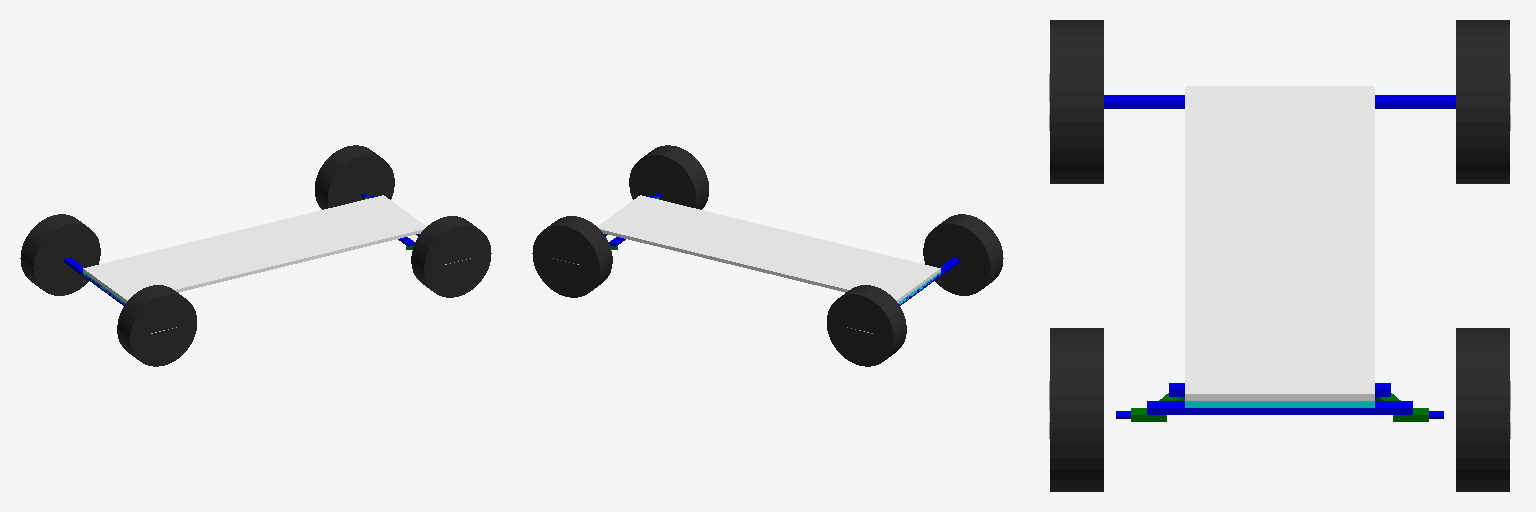
URDF robot description (car):
<!--
  This prius model supports ackerman steering, which is controlled by
  an actuator.
  
  This model is rear-wheel-drive. The rear two wheels are independently controlled.

-->
<robot name="car">
  
  <link name="front_axle">
    <!-- <inertial>
      <origin xyz="0 0 0" rpy="0 0 0" />
      <mass value="5.42793634" />
      <inertia iyy="0.00216238" ixx="0.50037476" izz="0.50167219" />
    </inertial> -->
    <visual>
      <origin xyz="0 0 0.3302" rpy="0 0 0" />
      <geometry>
        <box size="0.061842105 1.051315789 0.030921" />
      </geometry>
      <material name="">
        <color rgba="0 0 1 1" />
      </material>
    </visual>
  </link>
  
  <link name="left_tie_rod_arm">
    <!-- <inertial>
      <mass value="1.58382895" />
      <inertia iyy="0.01392609" iyx="0.00888406" ixy="0.00888406" ixx="0.00760563" izz="0.02127934" />
    </inertial> -->
    <visual>
      <origin xyz="0 0.02228556 0.299279" rpy="0 0 0" />
      <geometry>
        <box size="0.061842105 0.140955396 0.030921" />
      </geometry>
      <material name="">
        <color rgba="0 .5 0 1" />
      </material>
    </visual>
    <visual>
      <origin xyz="-0.108367333 -0.054311782 0.299279" rpy="0 0 0.463647611" />
      <geometry>
        <box size="0.204636598 0.061842105 0.030921" />
      </geometry>
      <material name="">
        <color rgba="0 .5 0 1" />
      </material>
    </visual>     
  </link>
  
  <link name="right_tie_rod_arm">
    <!-- <inertial>
      <mass value="1.58382895" />
      <inertia iyy="0.01392609" iyx="-0.00888406" ixy="-0.00888406" ixx="0.00760563" izz="0.02127934" />
    </inertial> -->
    <visual>
      <origin xyz="0.172468672 -0.108519747 0.299279" rpy="0 0 0" />
      <geometry>
        <box size="0.061842105 0.140955396 0.030921" />
      </geometry>
      <material name="">
        <color rgba="0 .5 0 1" />
      </material>
    </visual>
    <visual>
      <origin xyz="0.063859619 -0.031929809 0.299279" rpy="0 0 -0.463647611" />
      <geometry>
        <box size="0.204636598 0.061842105 0.030921" />
      </geometry>
      <material name="">
        <color rgba="0 .5 0 1" />
      </material>
    </visual>  
  </link>
  
  <link name="tie_rod">
    <!-- <inertial>
      <mass value="4.53748175" />
      <inertia iyy="0.00180764" ixx="0.29241361" izz="0.29349820" />
    </inertial> -->
    <visual>
      <origin xyz="0 -0.408502555 0.3302" rpy="0 0 0" />
      <geometry>
        <box size="0.061842105 0.878847118 0.030921" />
      </geometry>
      <material name="">
        <color rgba="0 0 1 1" />
      </material>
    </visual>
  </link>
  
  <!-- Hubs -->
  <link name="left_hub">
    <!-- <inertial>
      <mass value="0.12538524" />
      <inertia iyy="0.00001499" ixx=" 0.00004745" izz=" 0.00004745" />
    </inertial> -->
    <visual>
      <origin xyz="0 0.61842105 0.299279" rpy="1.5708 0 0" />
      <geometry>
        <cylinder length="0.061842105" radius="0.015460526"/>
      </geometry>
      <material name="">
        <color rgba="0 0 1 1" />
      </material>
    </visual>
  </link>
  
  <link name="right_hub">
    <!-- <inertial>
      <mass value="0.12538524" />
      <inertia iyy="0.00001499" ixx=" 0.00004745" izz=" 0.00004745" />
    </inertial> -->
    <visual>
      <origin xyz="0 -0.61842105 0.299279" rpy="1.5708 0 0" />
      <geometry>
        <cylinder length="0.061842105" radius="0.015460526"/>
      </geometry>
      <material name="">
        <color rgba="0 0 1 1" />
      </material>
    </visual>
  </link>
  
  <!-- Wheels -->
  <link name="left_wheel">
    <inertial>
      <mass value="14.28" />
      <inertia iyy=".77843904" ixx=".49991220" izz=".49991220" />
    </inertial>
    <visual>
      <origin xyz="0 0 0" rpy="1.5708 0 0" />
      <geometry>
        <cylinder length=".215" radius="0.323342"/>
      </geometry>
      <material name="">
        <color rgba=".2 .2 .2 1" />
      </material>
    </visual>  
    <collision>
      <origin xyz="0 0 0" rpy="1.5708 0 0" />
      <geometry>
        <cylinder length=".215" radius="0.323342"/>
      </geometry>
    </collision>
    <!-- Wheel Markings -->
    <visual>
      <origin xyz="0 0.1075 0" rpy="0 0 1.5708"/>
      <material>
        <color rgba=".9 .9 .9 1"/>
      </material>
      <geometry>
        <box size=".0025 .0025 .25"/>
      </geometry>
    </visual>
    <visual>
      <origin xyz="0 0.1075 0" rpy="0 1.5708 0"/>
      <material>
        <color rgba=".9 .9 .9 1"/>
      </material>
      <geometry>
        <box size=".0025 .0025 .25"/>
      </geometry>
    </visual>
  </link>
  
  <link name="right_wheel">
    <inertial>
      <mass value="14.28" />
      <inertia iyy=".77843904" ixx=".49991220" izz=".49991220" />
    </inertial>
    <visual>
      <origin xyz="0 0 0" rpy="1.5708 0 0" />
      <geometry>
        <cylinder length=".215" radius="0.323342"/>
      </geometry>
      <material name="">
        <color rgba=".2 .2 .2 1" />
      </material>
    </visual>
    <collision>
      <origin xyz="0 0 0" rpy="1.5708 0 0" />
      <geometry>
        <cylinder length=".215" radius="0.323342"/>
      </geometry>
    </collision>
    <!-- Wheel Markings -->
    <visual>
      <origin xyz="0 -.1075 0" rpy="0 0 1.5708"/>
      <material>
        <color rgba=".9 .9 .9 1"/>
      </material>
      <geometry>
        <box size=".0025 .0025 .25"/>
      </geometry>
    </visual>
    <visual>
      <origin xyz="0 -.1075 0" rpy="0 1.5708 0"/>
      <material>
        <color rgba=".9 .9 .9 1"/>
      </material>
      <geometry>
        <box size=".0025 .0025 .25"/>
      </geometry>
    </visual>     
  </link>
  
  <link name="left_wheel_rear">
    <inertial>
      <mass value="16.78" />
      <inertia iyy="1.02355320" ixx="0.75264650" izz="0.75264650" />
    </inertial>
    <visual>
      <origin xyz="0 0 0" rpy="1.5708 0 0" />
      <geometry>
        <cylinder length=".215" radius="0.323342"/>
      </geometry>
      <material name="">
        <color rgba=".2 .2 .2 1" />
      </material>
    </visual> 
    <collision>
      <origin xyz="0 0 0" rpy="1.5708 0 0" />
      <geometry>
        <cylinder length=".215" radius="0.323342"/>
      </geometry>
    </collision>    
    <!-- Wheel Markings -->
    <visual>
      <origin xyz="0 0.1075 0" rpy="0 0 1.5708"/>
      <material>
        <color rgba=".9 .9 .9 1"/>
      </material>
      <geometry>
        <box size=".0025 .0025 .25"/>
      </geometry>
    </visual>
    <visual>
      <origin xyz="0 0.1075 0" rpy="0 1.5708 0"/>
      <material>
        <color rgba=".9 .9 .9 1"/>
      </material>
      <geometry>
        <box size=".0025 .0025 .25"/>
      </geometry>
    </visual>
  </link>
  
  <link name="right_wheel_rear">
    <inertial>
      <mass value="16.78" />
      <inertia iyy="1.02355320" ixx="0.75264650" izz="0.75264650" />
    </inertial>
    <visual>
      <origin xyz="0 0 0" rpy="1.5708 0 0" />
      <geometry>
        <cylinder length=".215" radius="0.323342"/>
      </geometry>
      <material name="">
        <color rgba=".2 .2 .2 1" />
      </material>
    </visual>
    <collision>
      <origin xyz="0 0 0" rpy="1.5708 0 0" />
      <geometry>
        <cylinder length=".215" radius="0.323342"/>
      </geometry>
    </collision>
    <!-- Wheel Markings -->
    <visual>
      <origin xyz="0 -0.1075 0" rpy="0 0 1.5708"/>
      <material>
        <color rgba=".9 .9 .9 1"/>
      </material>
      <geometry>
        <box size=".0025 .0025 .25"/>
      </geometry>
    </visual>
    <visual>
      <origin xyz="0 -0.1075 0" rpy="0 1.5708 0"/>
      <material>
        <color rgba=".9 .9 .9 1"/>
      </material>
      <geometry>
        <box size=".0025 .0025 .25"/>
      </geometry>
    </visual>     
  </link>
  
  <!-- Main Chassis -->
  <link name="chassis_floor">
    <inertial>
      <origin xyz="0 0 0" rpy="0 0 0" />
      <mass value="57.833027175" />
      <inertia iyy="68.899955711" ixx="2.715531035" izz="71.606270974" />
    </inertial>
    <visual>
      <origin xyz="0 0 0.3302" rpy="0 0 0" />
      <geometry>
        <box size="2.880802 .75 0.030921" />
      </geometry>
      <material name="">
        <color rgba="1 1 1 1" />
      </material>
    </visual>
 
    <!-- spacers -->  
    <visual>
      <origin xyz="1.409480 0 0.299279" rpy="0 0 0" />
      <geometry>
        <box size=".06184211 .75 0.030921" />
      </geometry>
      <material name="">
        <color rgba="0 1 1 1" />
      </material>
    </visual>
    <visual>
      <origin xyz="-1.409480 0 0.299279" rpy="0 0 0" />
      <geometry>
        <box size=".06184211 .75 0.030921" />
      </geometry>
      <material name="">
        <color rgba="0 1 1 1" />
      </material>
    </visual>
  </link>
  
  <!-- Rear_Axle -->
  <link name="rear_axle">
    <!-- <inertial>
      <origin xyz="0 0 0" rpy="0 0 0" />
      <mass value="4.53748175" />
      <inertia iyy="0.00180764" ixx="0.29241361" izz="0.29349820" />
    </inertial> -->
    <visual>
      <origin xyz="-1.409480 0 0" rpy="0 0 0" />
      <geometry>
        <box size=".06184211 1.388985 0.030921" />
      </geometry>
      <material name="">
        <color rgba="0 0 1 1" />
      </material>
    </visual>
  </link>
  
     <link name="front_left_contact_point">
    <visual>
      <material>
        <color rgba="0 1 0 0"/>
      </material>
      <geometry>
        <sphere radius=".01"/>
      </geometry>
    </visual>
  </link>
      <link name="front_right_contact_point">
    <visual>
      <material>
        <color rgba="0 1 0 0"/>
      </material>
      <geometry>
        <sphere radius=".01"/>
      </geometry>
    </visual>
  </link>
  <link name="rear_left_contact_point">
    <visual>
      <material>
        <color rgba="0 1 0 0"/>
      </material>
      <geometry>
        <sphere radius=".01"/>
      </geometry>
    </visual>
  </link>
  <link name="rear_right_contact_point">
    <visual>
      <material>
        <color rgba="0 1 0 0"/>
      </material>
      <geometry>
        <sphere radius=".01"/>
      </geometry>
    </visual>
  </link>

<link name="body">
    <inertial>
      <origin xyz="0 0 0" rpy="0 0 0" />
      <mass value="5.42793634" />
      <inertia ixx="0.00216238" iyy="0.50037476" izz="0.50167219" />
    </inertial>
    <visual>
      <origin xyz="-3.6725 -.9213945 .1666" rpy="0 0 0" />
      <geometry>
        <mesh filename="prius.dae" scale="1" />
      </geometry>
    </visual>
</link>

<joint name="body" type="fixed">
    <parent link="front_axle" />
    <child link="body" />
    <origin xyz="0 0 0" />
    <axis xyz="0 0 1" />
  </joint>
  
  <joint name="steering" type="revolute">
    <parent link="front_axle" />
    <child link="left_tie_rod_arm" />
    <origin xyz="0 0.494736842 0" />
    <axis xyz="0 0 1" />
    <limit lower="-0.401425728" upper="0.5" /> 
  </joint>
  
  <joint name="left_pin" type="continuous">
    <parent link="left_tie_rod_arm" />
    <child link="tie_rod" />
    <origin xyz="-0.172468672 -0.086234287 0" />
    <axis xyz="0 0 1" />
    <limit lower="-3.1416" upper="3.1416" />
  </joint>
  
  <joint name="right_pin" type="continuous">
    <parent link="tie_rod" />
    <child link="right_tie_rod_arm" />
    <origin xyz="0 -0.817005012 0" />
    <axis xyz="0 0 1" />
    <limit lower="-3.1416" upper="3.1416" />
  </joint>
  
  <loop_joint name="pin" type="continuous">
    <axis xyz="0 0 1"/>
    <link1 link="right_tie_rod_arm" rpy="0 0 0" xyz="0.172468672 -0.086234287 0"/>
    <link2 link="front_axle" rpy="0 0 0" xyz="0 -0.494736842 0"/>
  </loop_joint>
  
  <joint name="left_hub" type="fixed">
    <parent link="left_tie_rod_arm" />
    <child link="left_hub" />
    <origin xyz="0 -0.494736842 0" />
    <axis xyz="0 0 1" />
  </joint>
  
  <joint name="right_hub" type="fixed">
    <parent link="right_tie_rod_arm" />
    <child link="right_hub" />
    <origin xyz="0.172468672 0.408502555 0" />
    <axis xyz="0 0 0" />
  </joint>

  <joint name="front_left_contact_sliding" type="prismatic">
    <parent link="left_hub"/>
    <child link="front_left_contact_point"/>
    <origin xyz="0 .801993 0"/>
    <axis xyz="0 0 1"/>
    <limit lower="0" upper=".323342"/>
  </joint>
  
  <force_element name="front_left_spring">
    <linear_spring_damper rest_length=".323342" stiffness="10000" damping="100">
      <link1 link="left_hub" xyz="0 0.801993 .323342"/>
      <link2 link="front_left_contact_point"/>
    </linear_spring_damper>
  </force_element>
  
  <joint name="left_wheel_joint" type="continuous">
    <axis xyz="0 1 0"/>
    <parent link="front_left_contact_point"/>
    <child link="left_wheel"/>
    <origin xyz="0 0 .323342"/>
    <dynamics damping="0"/>
  </joint>
  
  <joint name="front_right_contact_sliding" type="prismatic">
    <parent link="right_hub"/>
    <child link="front_right_contact_point"/>
    <origin xyz="0 -0.801993 0"/>
    <axis xyz="0 0 1"/>
    <limit lower="0" upper=".323342"/>
  </joint>
  
  <force_element name="front_right_spring">
    <linear_spring_damper rest_length=".323342" stiffness="10000" damping="100">
      <link1 link="right_hub" xyz="0 -0.801993 .323342"/>
      <link2 link="front_right_contact_point"/>
    </linear_spring_damper>
  </force_element>
  
  <joint name="right_wheel_joint" type="continuous">
    <axis xyz="0 1 0"/>
    <parent link="front_right_contact_point"/>
    <child link="right_wheel"/>
    <origin xyz="0 0 .323342"/>
    <dynamics damping="0"/>
  </joint>
  
  <joint name="chassis_floor_axle" type="fixed">
    <parent link="front_axle" />
    <child link="chassis_floor" />
    <origin xyz="-1.409480 0 0.061842" />
    <axis xyz="0 0 1" />
  </joint>
  
  <joint name="chassis_rear_axle" type="fixed">
    <parent link="chassis_floor" />
    <child link="rear_axle" />
    <origin xyz="0 0 0.287408" />
    <axis xyz="0 0 1" />
  </joint>
  
   <joint name="rear_left_contact_sliding" type="prismatic">
    <parent link="rear_axle"/>
    <child link="rear_left_contact_point"/>
    <origin xyz="-1.409480 .801993 -0.323342"/>
    <axis xyz="0 0 1"/>
    <limit lower="0" upper="0.34925"/>
  </joint>
  
  <force_element name="rear_left_spring">
    <linear_spring_damper rest_length="0.323342" stiffness="10000" damping="100">
      <link1 link="rear_axle" xyz="-1.409480 0.801993 0"/>
      <link2 link="rear_left_contact_point"/>
    </linear_spring_damper>
  </force_element>
  
  <joint name="rear_left_wheel_joint" type="continuous">
    <axis xyz="0 1 0"/>
    <parent link="rear_left_contact_point"/>
    <child link="left_wheel_rear"/>
    <origin xyz="0 0 0.323342"/>
    <dynamics damping="0"/>
  </joint>
  
  <joint name="rear_right_contact_sliding" type="prismatic">
    <parent link="rear_axle"/>
    <child link="rear_right_contact_point"/>
    <origin xyz="-1.409480 -0.801993 -0.323342"/>
    <axis xyz="0 0 1"/>
    <limit lower="0" upper="0.34925"/>
  </joint>
  
  <force_element name="rear_right_spring">
    <linear_spring_damper rest_length="0.323342" stiffness="10000" damping="100">
      <link1 link="rear_axle" xyz="-1.409480 -0.801993 0"/>
      <link2 link="rear_right_contact_point"/>
    </linear_spring_damper>
  </force_element>
  
  <joint name="rear_right_wheel_joint" type="continuous">
    <axis xyz="0 1 0"/>
    <parent link="rear_right_contact_point"/>
    <child link="right_wheel_rear"/>
    <origin xyz="0 0 0.323342"/>
    <dynamics damping="0"/>
  </joint>
  
  
  <transmission name="steering_drive" type="SimpleTransmission">
    <joint name="steering"/>
    <actuator name="steering_angle"/>
  </transmission>
  
  <transmission name="front_left_drive" type="SimpleTransmission">
    <joint name="rear_left_wheel_joint"/>
    <actuator name="throttle_left_value"/>
  </transmission>
  
  <transmission name="front_right_drive" type="SimpleTransmission">
    <joint name="rear_right_wheel_joint"/>
    <actuator name="throttle_right_value"/>
  </transmission>
  
</robot>

--- Render facts (derived) ---
Views: 3 orthographic renders of the robot side by side, from view 1: azimuth 30°, elevation 25°; view 2: azimuth 150°, elevation 25°; view 3: azimuth 270°, elevation 25°.
Model car with 17 links and 16 joints (1 revolute, 6 continuous, 4 prismatic, 5 fixed), rooted at front_axle, posed every joint at zero.
Visible links, largest first — view 1: chassis_floor, right_wheel, right_wheel_rear, left_wheel_rear, left_wheel; view 2: chassis_floor, left_wheel, left_wheel_rear, right_wheel_rear, right_wheel; view 3: chassis_floor, left_wheel, right_wheel, left_wheel_rear, right_wheel_rear, front_axle, rear_axle.
Link boxes in pixels (x1,y1,x2,y2): chassis_floor: [83, 195, 426, 304]; right_wheel: [411, 216, 491, 297]; right_wheel_rear: [117, 285, 196, 366]; left_wheel_rear: [20, 214, 100, 295]; left_wheel: [315, 145, 394, 209]; chassis_floor: [597, 195, 940, 304]; left_wheel: [532, 216, 612, 297]; left_wheel_rear: [827, 285, 906, 366]; right_wheel_rear: [923, 214, 1003, 295]; right_wheel: [629, 145, 708, 209]; chassis_floor: [1185, 86, 1374, 407]; left_wheel: [1456, 328, 1510, 491]; right_wheel: [1049, 328, 1103, 491]; left_wheel_rear: [1456, 20, 1510, 183]; right_wheel_rear: [1049, 20, 1103, 183]; front_axle: [1147, 401, 1412, 414]; rear_axle: [1104, 95, 1455, 108].
Bounding box of the posed robot: 3.47 × 1.82 × 0.6826 m (x, y, z).
0 mesh visuals loaded from 1 distinct referenced files (none loaded); not drawn: 1 (reference not matched to a file when rendering).
